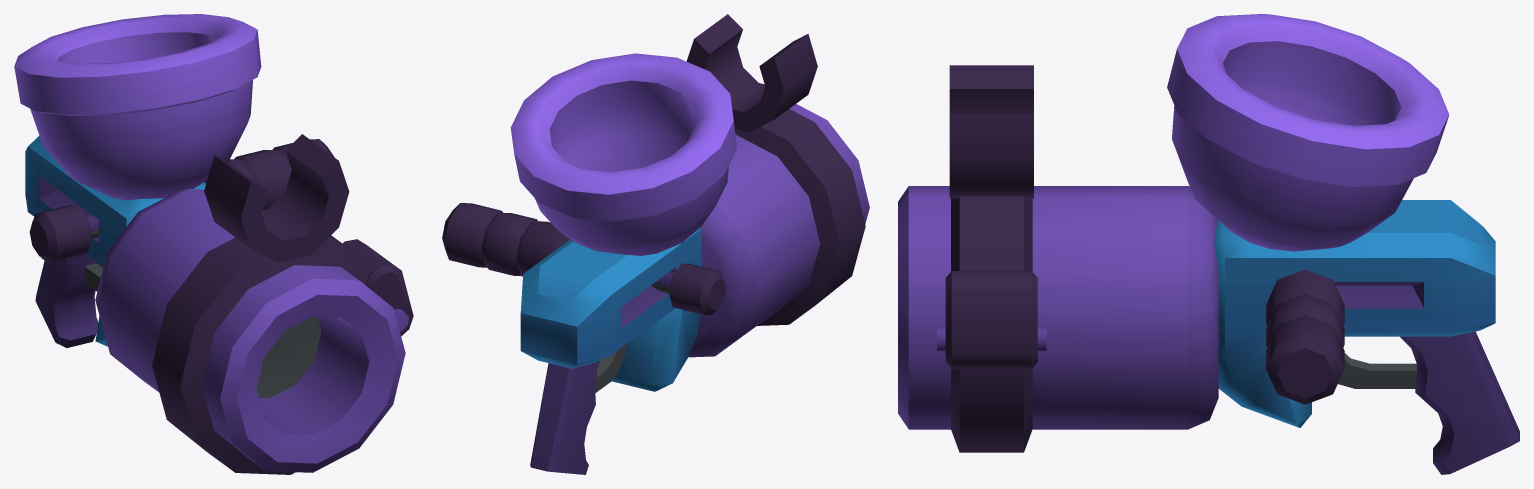
File: kk_holiday_abime_canon.glb
3 renders of one model, left to right at view 1: azimuth 30°, elevation 25°; view 2: azimuth 150°, elevation 25°; view 3: azimuth 270°, elevation 25°, orthographic. The views are drawn at different scales.
Parts seen in each view (by area): view 1: snowball_cannon; view 2: snowball_cannon; view 3: snowball_cannon.
Boxes of the visible parts, x1,y1,x2,y2 form: snowball_cannon: (14, 14, 413, 474); snowball_cannon: (442, 14, 869, 474); snowball_cannon: (898, 14, 1519, 474).
Bounding box in the file's own units: 0.6016 × 0.714 × 0.9509.
1 material, 1 textured.
